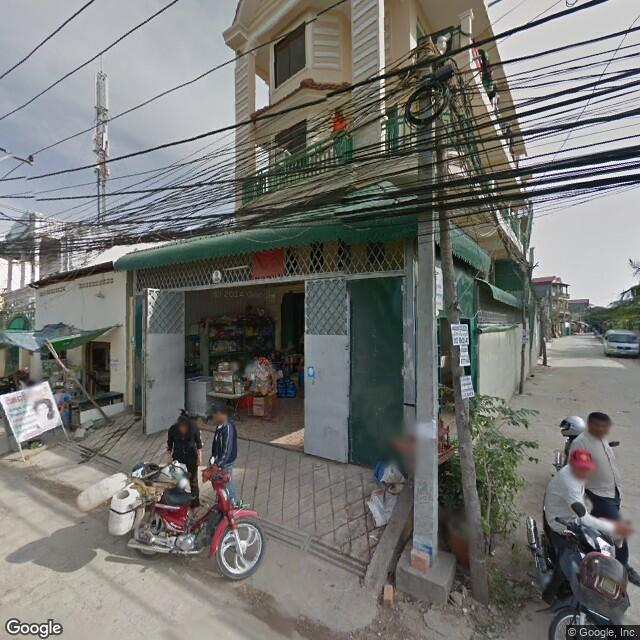litter: (362, 456, 405, 521)
